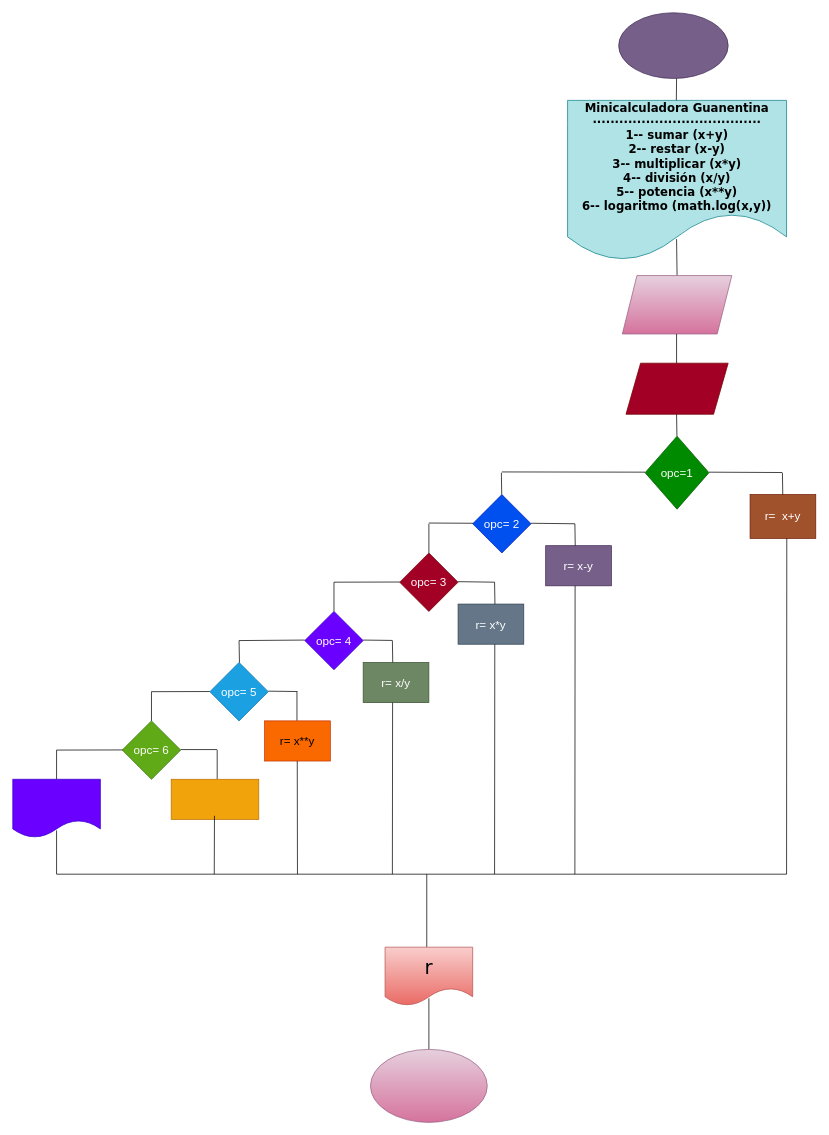
The diagram is 829 pixels wide and 1135 high, and some of its shapes have lost their labels. The shapes that lost their labels are listed below. From the top down, each one's box as (x1, y1, x2, y2) in pixels, then its label:
(618, 12, 728, 78): INICIO
(622, 275, 732, 334): x,y
(625, 362, 728, 414): opc
(12, 779, 100, 838): opción no válida
(170, 779, 259, 819): r= math.log(x, y)
(370, 1049, 487, 1122): FIN
